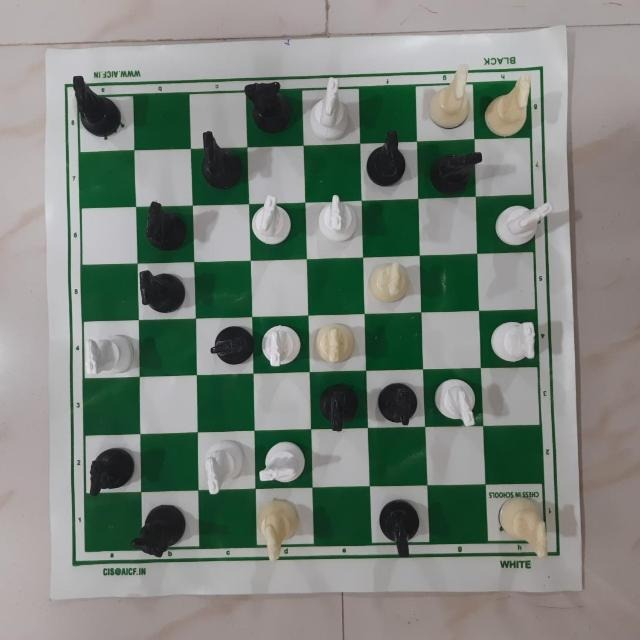black-knight: (131, 494, 191, 556), (71, 71, 125, 138), (83, 443, 144, 498), (190, 129, 241, 189), (205, 315, 257, 372), (379, 501, 431, 558), (429, 139, 482, 193), (138, 263, 192, 314), (246, 77, 290, 139), (141, 193, 187, 251), (320, 383, 361, 440), (368, 134, 410, 188), (379, 376, 421, 430)
white-knight: (425, 63, 476, 133), (495, 495, 550, 559), (482, 69, 532, 133), (198, 441, 250, 499), (431, 374, 482, 431), (86, 326, 138, 380), (495, 198, 553, 245), (315, 192, 363, 246), (258, 441, 309, 491), (307, 79, 350, 138), (259, 502, 303, 559), (491, 315, 539, 363), (259, 325, 307, 369), (255, 195, 293, 247), (315, 324, 356, 364), (373, 263, 411, 303)
